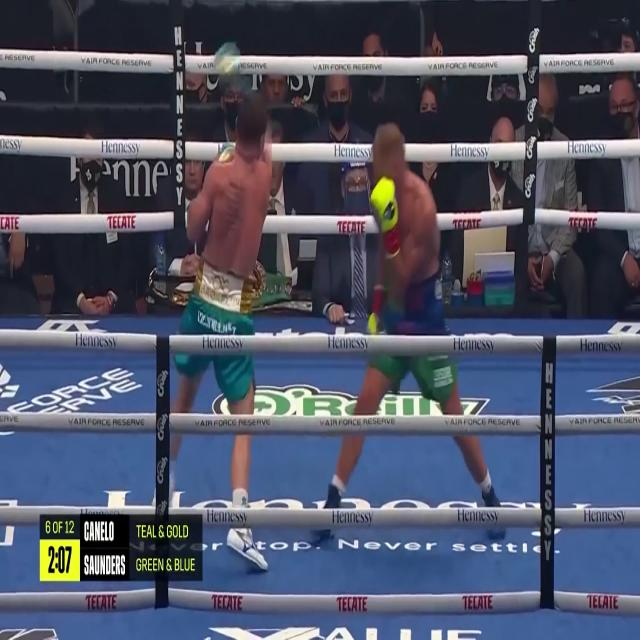boxer_1: (373, 124, 440, 280)
boxer_2: (202, 101, 272, 276)
gloves_1: (370, 176, 399, 254), (368, 284, 384, 332)
gloves_2: (214, 43, 245, 93), (218, 145, 234, 164)
